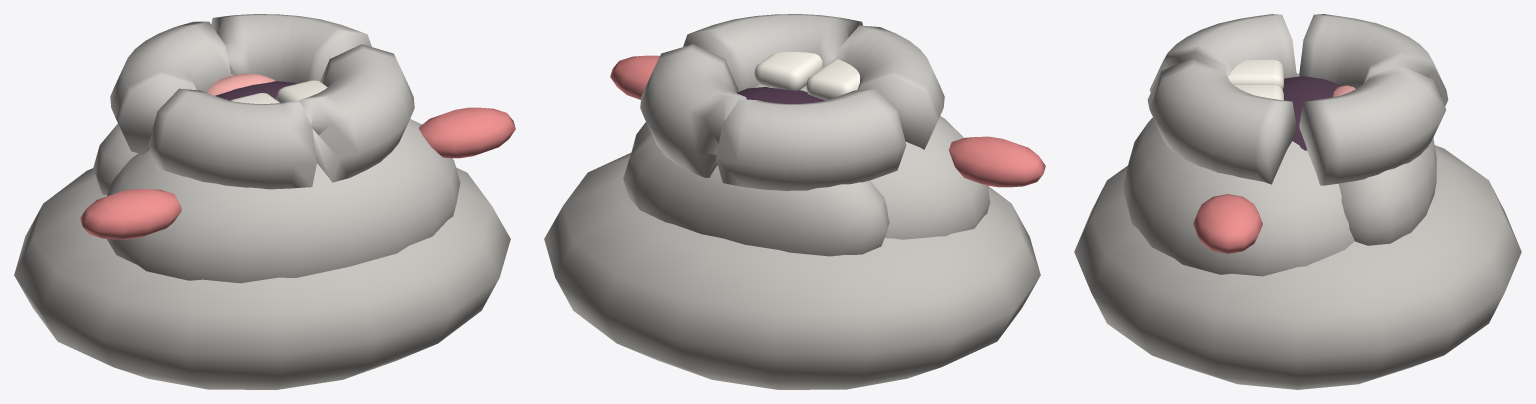
File: part_mouth_nibbler.glb
The picture shows the model from 3 angles, left to right: view 1: azimuth 30°, elevation 25°; view 2: azimuth 150°, elevation 25°; view 3: azimuth 270°, elevation 25°; orthographic projection.
Parts seen in each view (by area): view 1: part_mouth_nibbler_painted_mesh, jaw.005_painted_mesh.001; view 2: part_mouth_nibbler_painted_mesh, jaw.005_painted_mesh.001; view 3: part_mouth_nibbler_painted_mesh, jaw.005_painted_mesh.001.
Part boxes in pixels (<box>): part_mouth_nibbler_painted_mesh: <box>14,44,515,389</box>; jaw.005_painted_mesh.001: <box>93,14,371,194</box>; part_mouth_nibbler_painted_mesh: <box>544,14,1045,389</box>; jaw.005_painted_mesh.001: <box>623,44,906,256</box>; part_mouth_nibbler_painted_mesh: <box>1074,14,1521,389</box>; jaw.005_painted_mesh.001: <box>1299,14,1448,245</box>.
Size of the model in its own units: 0.72 by 0.445 by 0.64.
